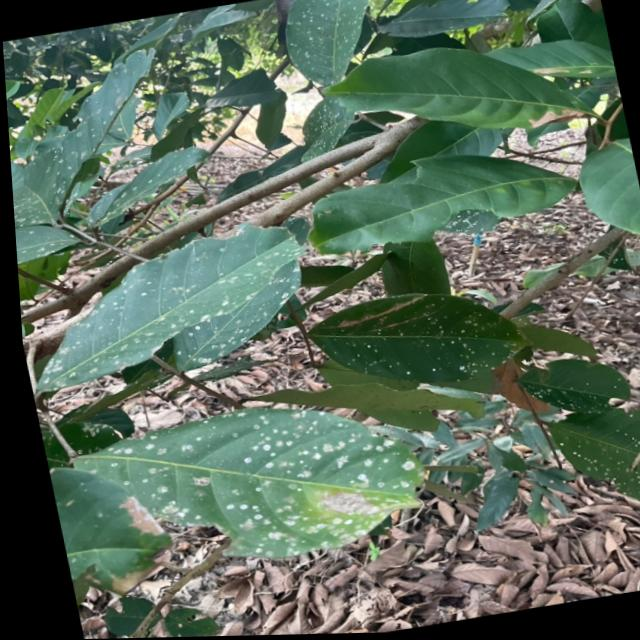Algal Leaf Spot: (65, 375, 469, 567), (37, 270, 350, 396), (7, 137, 187, 253), (348, 288, 528, 403), (283, 0, 370, 172), (549, 389, 640, 513)
